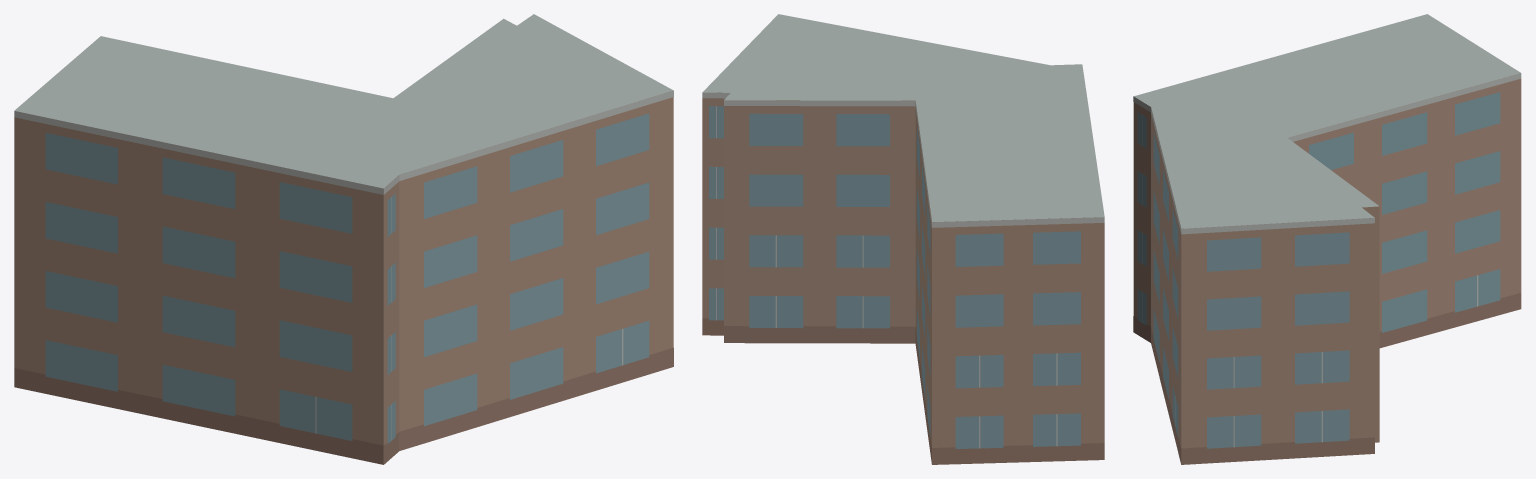
File: survey-upis-32937900.glb
3 renders of one model, left to right at view 1: azimuth 30°, elevation 25°; view 2: azimuth 150°, elevation 25°; view 3: azimuth 270°, elevation 25°, orthographic. The views are drawn at different scales.
Parts seen in each view (by area): view 1: survey-upis-32937900.tmp; view 2: survey-upis-32937900.tmp; view 3: survey-upis-32937900.tmp.
Part boxes in pixels (<box>): survey-upis-32937900.tmp: <box>14,14,673,464</box>; survey-upis-32937900.tmp: <box>702,14,1104,464</box>; survey-upis-32937900.tmp: <box>1133,14,1521,464</box>.
Size of the model in its own units: 20.31 by 10.4 by 15.5.
